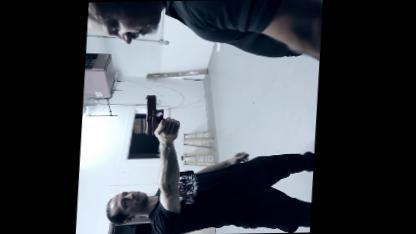pistol: (144, 94, 167, 134)
